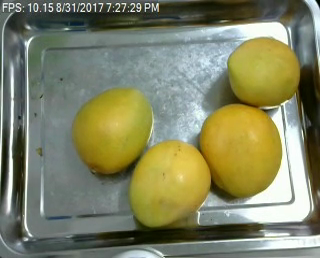Mango: (200, 101, 284, 197), (128, 139, 209, 226), (72, 88, 153, 175), (226, 36, 299, 108)
